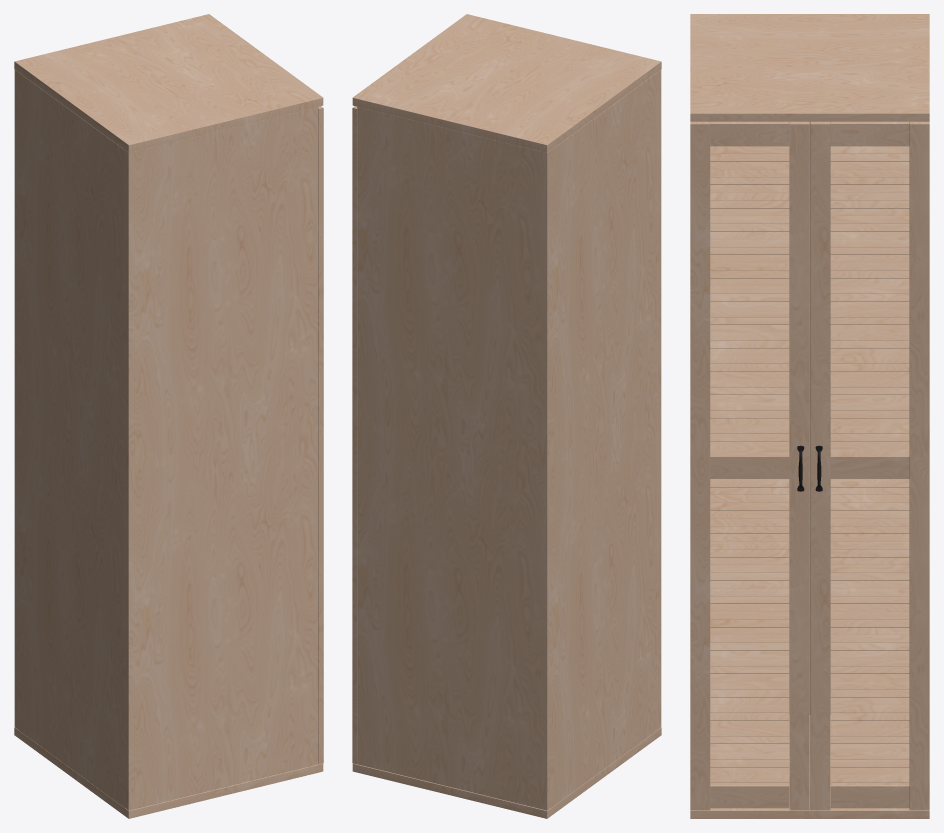
3 renders of one model, left to right at view 1: azimuth 30°, elevation 25°; view 2: azimuth 150°, elevation 25°; view 3: azimuth 270°, elevation 25°, orthographic. The views are drawn at different scales.
Visible parts, largest first — view 1: cabinet_12_01; view 2: cabinet_12_01; view 3: cabinet_12_01.
Boxes of the visible parts, left/top/right/bottom form: cabinet_12_01: left=14, top=14, right=323, bottom=818; cabinet_12_01: left=352, top=14, right=661, bottom=818; cabinet_12_01: left=690, top=14, right=929, bottom=818.
Size of the model in its own units: 0.6099 by 1.95 by 0.6003.
Materials: 1 (1 with a texture image).
